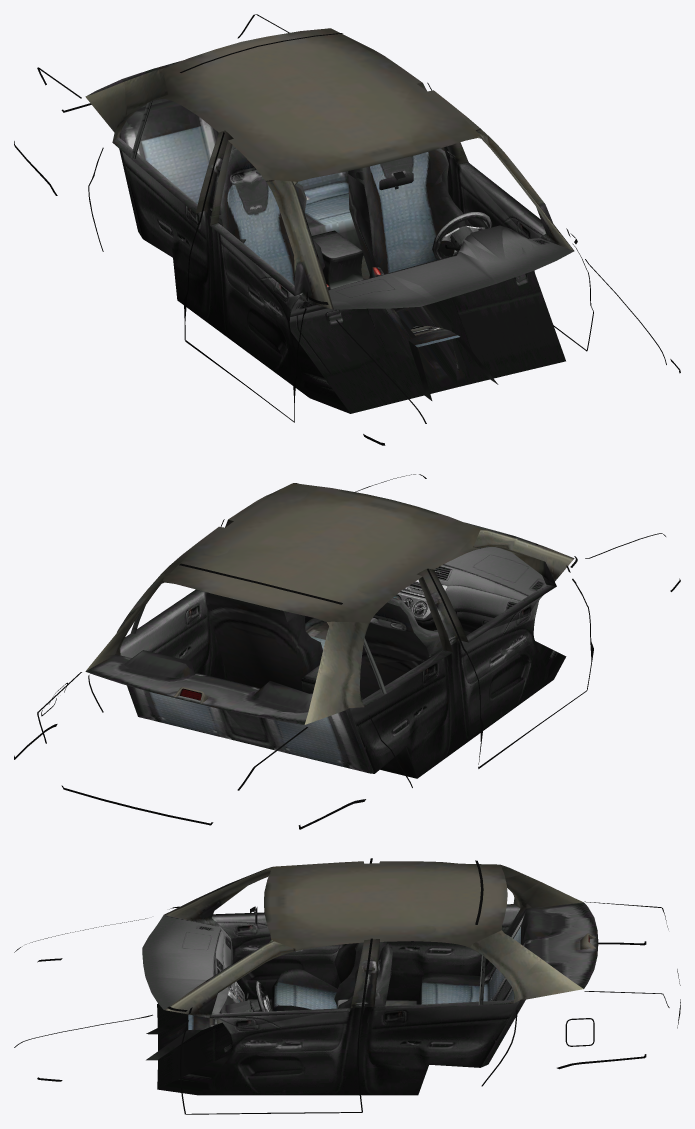
The model's file is evo9_inline.FBX.
3 views of the same model, one above another, from view 1: azimuth 30°, elevation 25°; view 2: azimuth 150°, elevation 25°; view 3: azimuth 270°, elevation 25° (orthographic). The views are drawn at different scales.
Visible parts, largest first — view 1: Interior, HiInt, DoorLine; view 2: Interior, HiInt, DoorLine; view 3: Interior, HiInt, DoorLine.
Part boxes in pixels (left/top/right/bottom): Interior: left=86, top=28, right=574, bottom=413; HiInt: left=85, top=60, right=574, bottom=413; DoorLine: left=14, top=14, right=680, bottom=445; Interior: left=85, top=483, right=574, bottom=778; HiInt: left=93, top=483, right=570, bottom=778; DoorLine: left=14, top=474, right=680, bottom=829; Interior: left=142, top=861, right=598, bottom=1095; HiInt: left=142, top=862, right=597, bottom=1094; DoorLine: left=14, top=858, right=680, bottom=1114.
Bounding box in the file's own units: 44.71 × 28.51 × 103.
